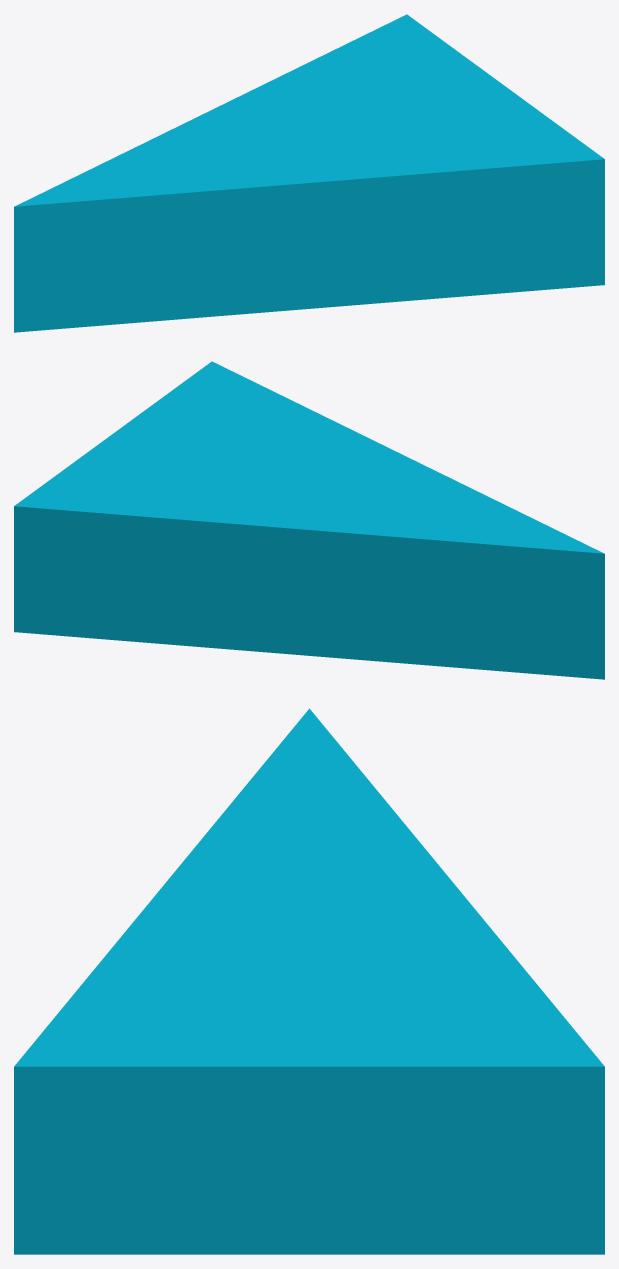
3 views of the same model, one above another, from view 1: azimuth 30°, elevation 25°; view 2: azimuth 150°, elevation 25°; view 3: azimuth 270°, elevation 25° (orthographic). The views are drawn at different scales.
Visible parts, largest first — view 1: node_id3; view 2: node_id3; view 3: node_id3.
Boxes of the visible parts, bbox=[...] form: node_id3: bbox=[14, 14, 604, 332]; node_id3: bbox=[14, 361, 604, 679]; node_id3: bbox=[14, 708, 604, 1254].
Bounding box in the file's own units: 224 × 54.86 × 156.
